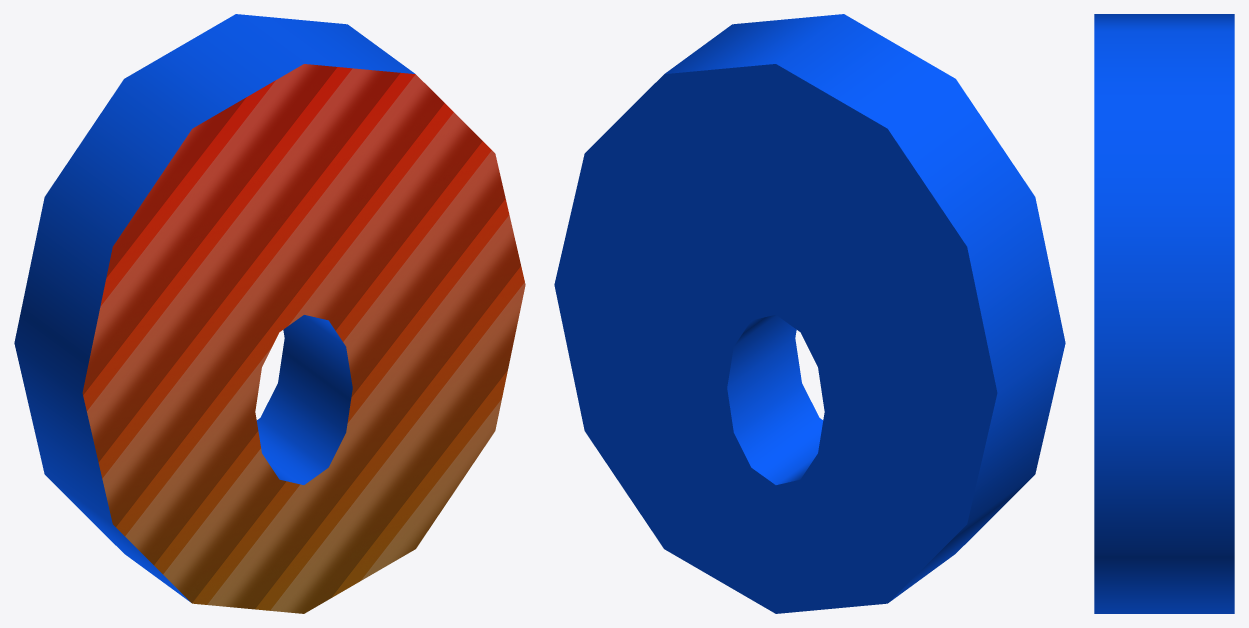
The picture shows the model from 3 angles, left to right: view 1: azimuth 30°, elevation 25°; view 2: azimuth 150°, elevation 25°; view 3: azimuth 270°, elevation 25°; orthographic projection. The views are drawn at different scales.
Parts seen in each view (by area): view 1: 0; view 2: 0; view 3: 0.
Part boxes in pixels (x1,y1,x2,y2): 0: (14,14,525,613); 0: (554,14,1065,613); 0: (1094,14,1234,613).
Bounding box in the file's own units: 75.07 × 89.06 × 20.
2 materials, 1 textured.
